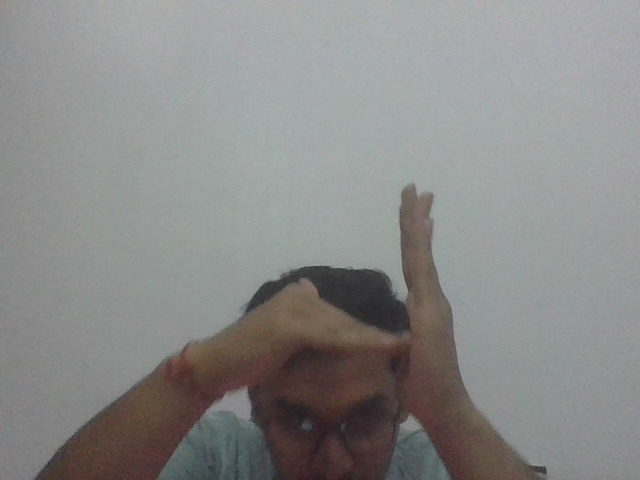Z: (253, 184, 483, 423)
